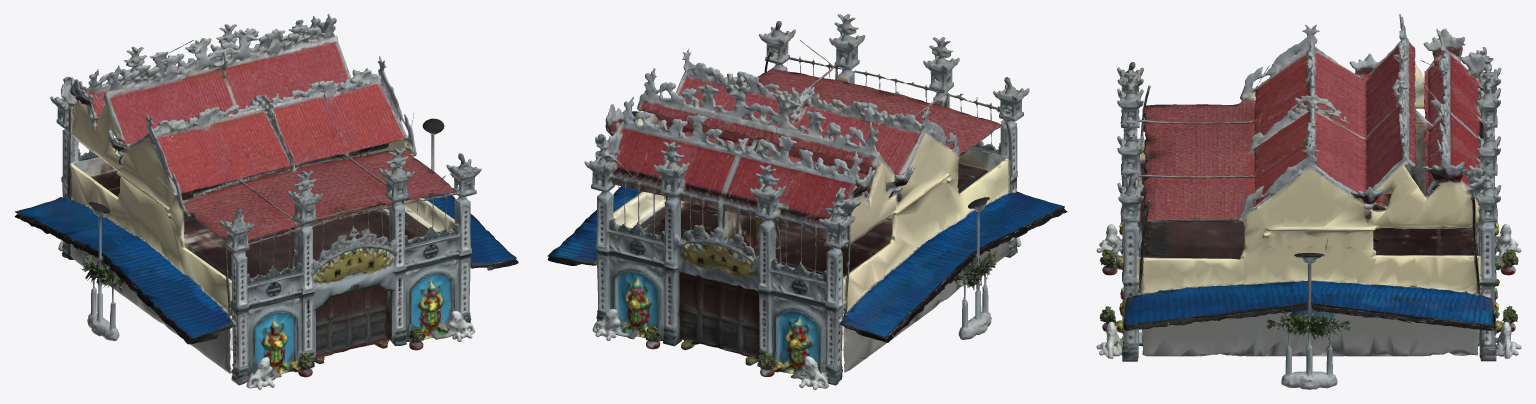
Rendered from dentamky.glb.
The picture shows the model from 3 angles, left to right: view 1: azimuth 30°, elevation 25°; view 2: azimuth 150°, elevation 25°; view 3: azimuth 270°, elevation 25°; orthographic projection. The views are drawn at different scales.
Parts seen in each view (by area): view 1: Mesh_0; view 2: Mesh_0; view 3: Mesh_0.
Boxes of the visible parts, x1,y1,x2,y2 form: Mesh_0: (14,14,518,389); Mesh_0: (547,14,1067,389); Mesh_0: (1096,14,1521,389).
Size of the model in its own units: 1.89 by 1.17 by 1.87.
1 material, 1 textured.
